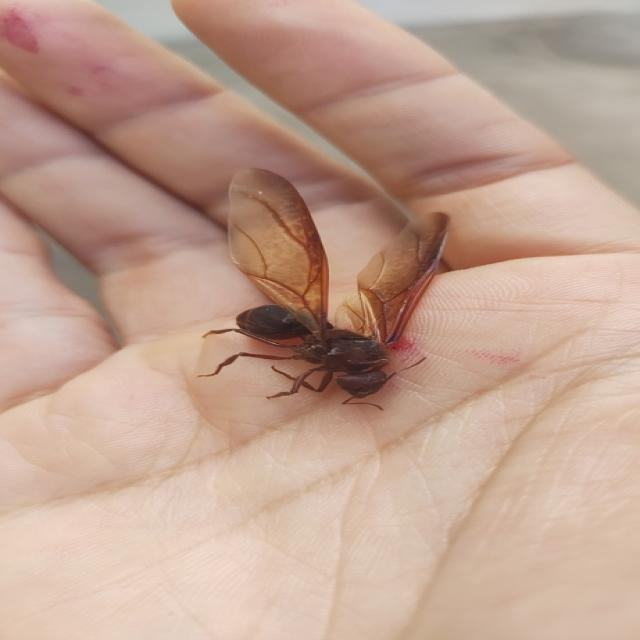Dead-Female-Alate: (194, 167, 450, 410)
